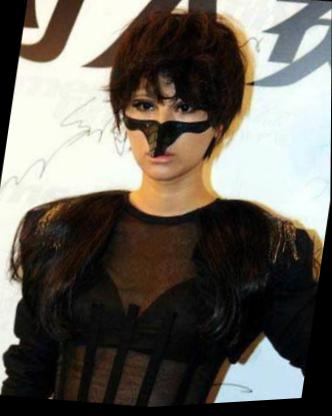WRONG: (117, 89, 214, 191)
